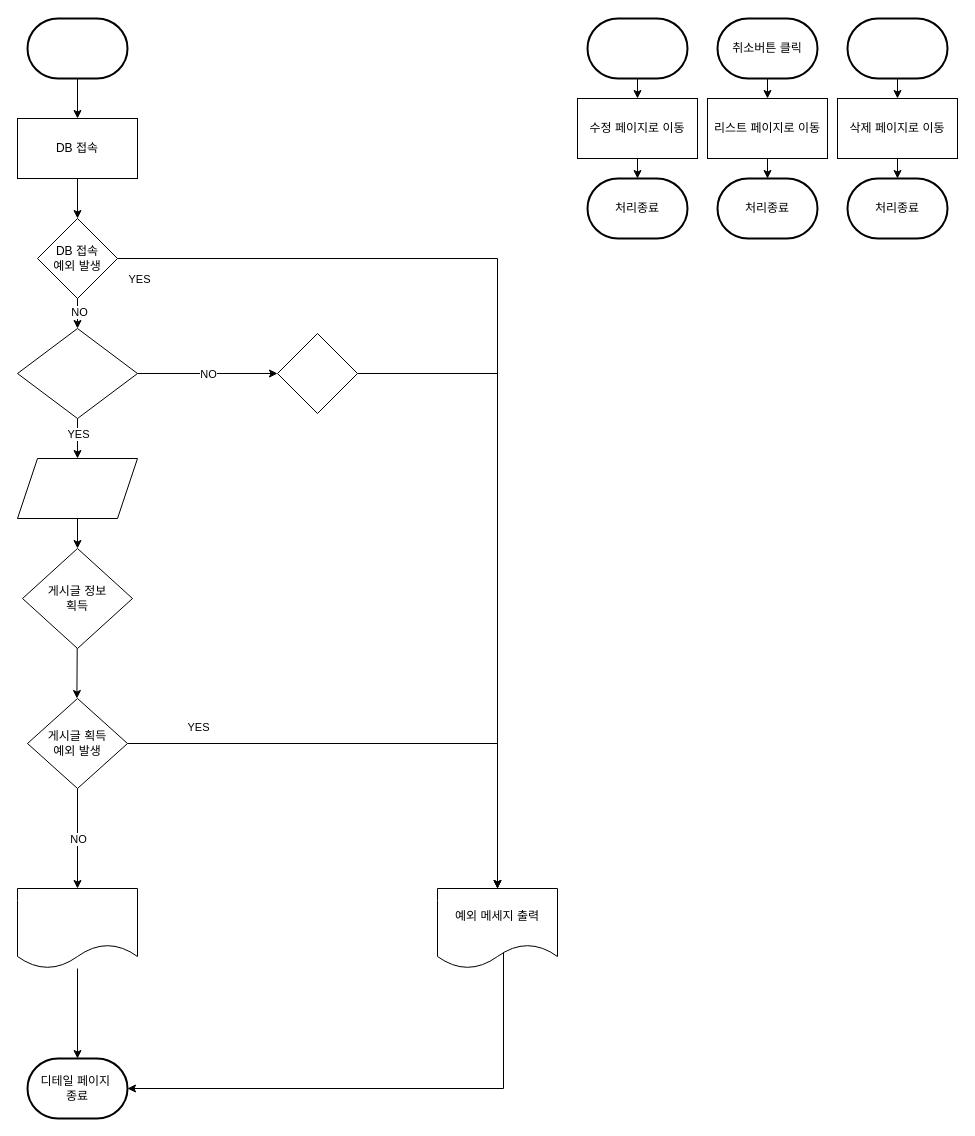
Some shapes in this 975 by 1136 pixel diagram are drawn without their labels. The centre of each missing label's shape, as x and y in pixels:
no, page 파라미터 존재: [77,373]
no,page 정보 획득: [77,488]
디테일 페이지 시작: [77,48]
삭제버튼 클릭: [897,48]
수정버튼 클릭: [637,48]
파라미터 예외 발생: [317,373]
화면에 출력: [77,928]
